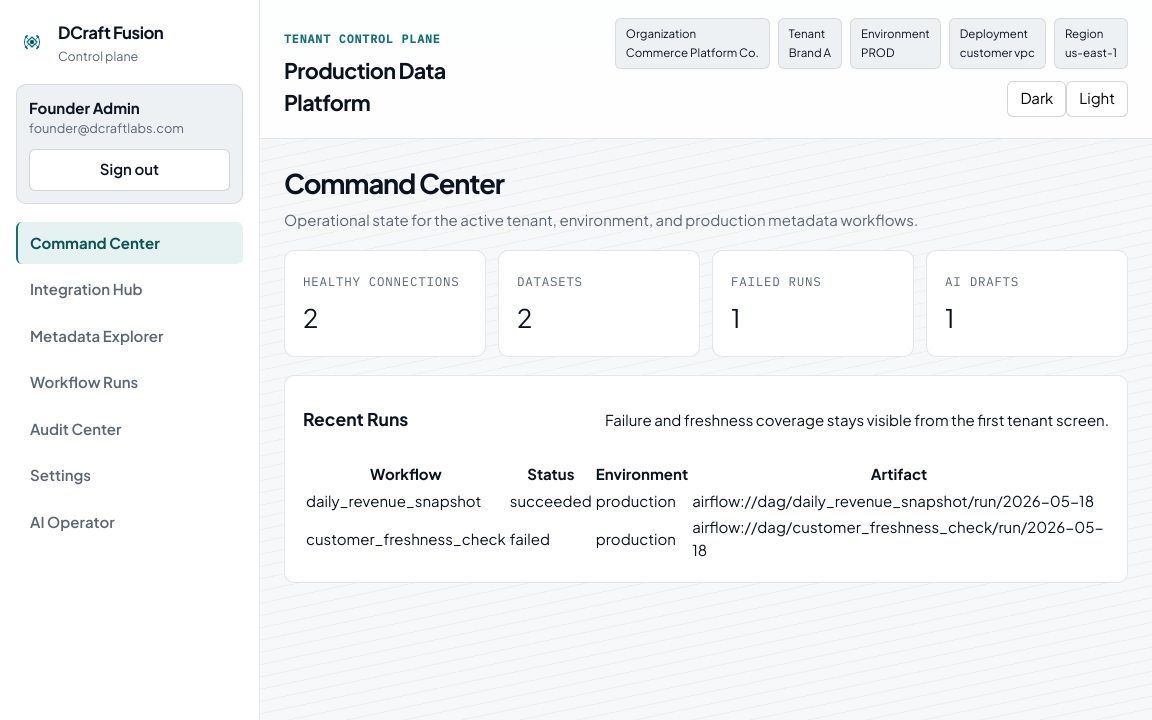
Test: Fusion UI shell › updates the browser URL when workspace navigation changes
Expected: the heading "Command Center" is shown, [284,166,504,200]
Click the link "Integration Hub". click: (86, 289)
box: [30,279,143,298]
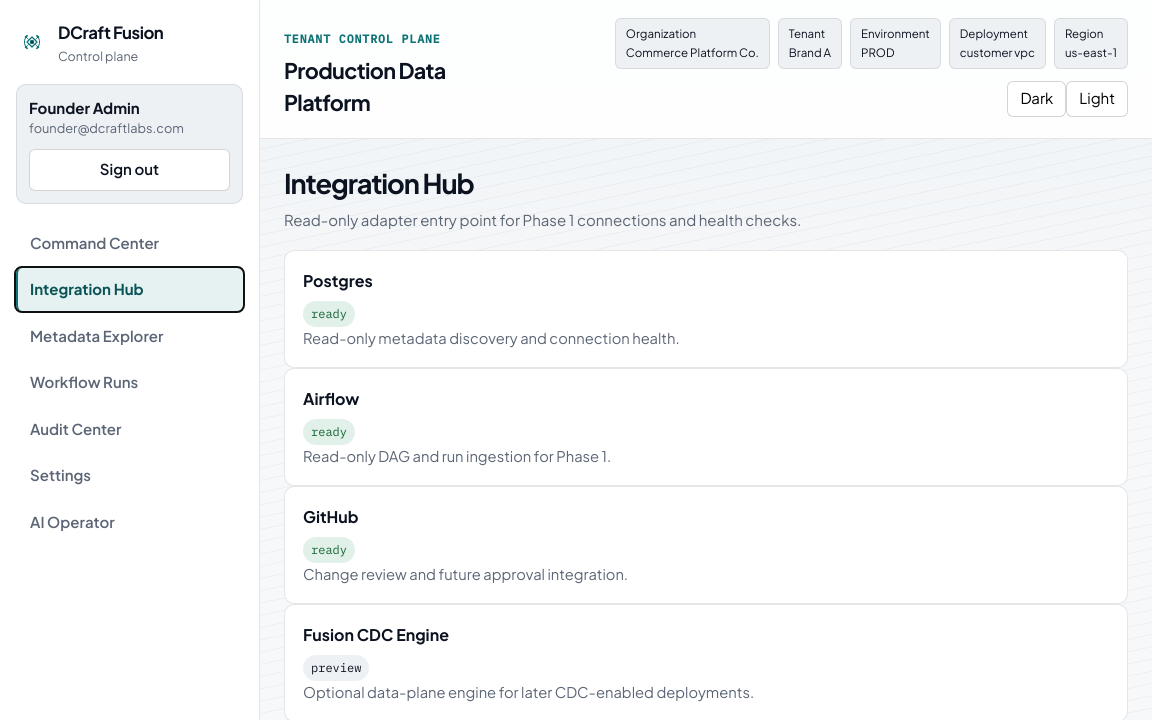
Result: the heading "Integration Hub" is shown at [284,166,474,200]
Result: the heading "Postgres" is shown at [303,270,373,291]
